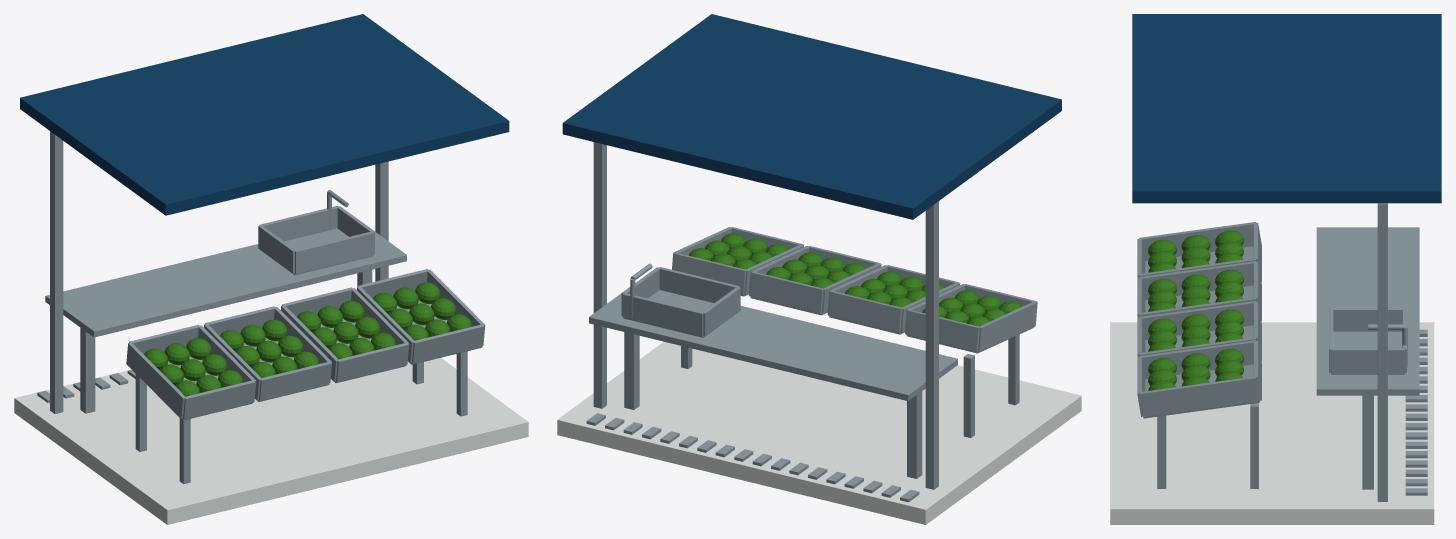
Rendered from edited.glb.
3 views of the same model, side by side, from view 1: azimuth 30°, elevation 25°; view 2: azimuth 150°, elevation 25°; view 3: azimuth 270°, elevation 25° (orthographic). The views are drawn at different scales.
Parts seen in each view (by area): view 1: AWNING, WASHABLE_Base, PREP_Counter, AWNING_Post.001, PRODUCE_LeafHeads.001, PRODUCE_LeafHeads, PRODUCE_LeafHeads.002, PRODUCE_LeafHeads.003, WASH_Sink_End, PRODUCE_Bin_End, PRODUCE_Bin_End.006, PRODUCE_Bin_End.002 (+21 smaller); view 2: AWNING, WASHABLE_Base, PREP_Counter, AWNING_Post.001, AWNING_Post, DRAIN_Grate, WASH_Sink_End.001, PRODUCE_LeafHeads, PRODUCE_LeafHeads.003, PRODUCE_Bin_End.003, PRODUCE_Bin_End.005, PRODUCE_LeafHeads.001 (+12 smaller); view 3: AWNING, WASHABLE_Base, PREP_Counter, AWNING_Post, PRODUCE_Bin_Side.007, DRAIN_Grate, PRODUCE_LeafHeads.003, PRODUCE_LeafHeads.001, PRODUCE_LeafHeads.002, PRODUCE_LeafHeads, WASH_Sink_Side.001, PRODUCE_Bin_Side.002 (+13 smaller).
Part boxes in pixels (x1,y1,x2,y2): AWNING: (20,14,509,215); WASHABLE_Base: (14,358,528,524); PREP_Counter: (45,220,406,337); AWNING_Post.001: (50,131,63,413); PRODUCE_LeafHeads.001: (144,338,243,396); PRODUCE_LeafHeads: (373,282,471,340); PRODUCE_LeafHeads.002: (220,319,318,377); PRODUCE_LeafHeads.003: (297,300,396,359); WASH_Sink_End: (295,231,373,274); PRODUCE_Bin_End: (183,380,255,419); PRODUCE_Bin_End.006: (412,324,484,363); PRODUCE_Bin_End.002: (259,361,331,401); AWNING: (562,14,1061,219); WASHABLE_Base: (557,341,1081,524); PREP_Counter: (589,293,957,400); AWNING_Post.001: (925,201,938,489); AWNING_Post: (593,142,606,408); DRAIN_Grate: (586,413,919,502); WASH_Sink_End.001: (622,293,703,336); PRODUCE_LeafHeads: (689,233,788,269); PRODUCE_LeafHeads.003: (766,252,866,288); PRODUCE_Bin_End.003: (828,290,902,332); PRODUCE_Bin_End.005: (749,271,823,313); PRODUCE_LeafHeads.001: (922,290,1022,326); AWNING: (1132,14,1441,203); WASHABLE_Base: (1110,322,1434,524); PREP_Counter: (1316,227,1419,395); AWNING_Post: (1377,203,1387,501); PRODUCE_Bin_Side.007: (1139,376,1259,417); DRAIN_Grate: (1405,329,1427,495); PRODUCE_LeafHeads.003: (1148,309,1243,351); PRODUCE_LeafHeads.001: (1148,230,1243,272); PRODUCE_LeafHeads.002: (1148,269,1243,311); PRODUCE_LeafHeads: (1148,348,1243,390); WASH_Sink_Side.001: (1331,348,1404,373); PRODUCE_Bin_Side.002: (1139,261,1255,300).
Bounding box in the file's own units: 3 × 2.47 × 2.25.
